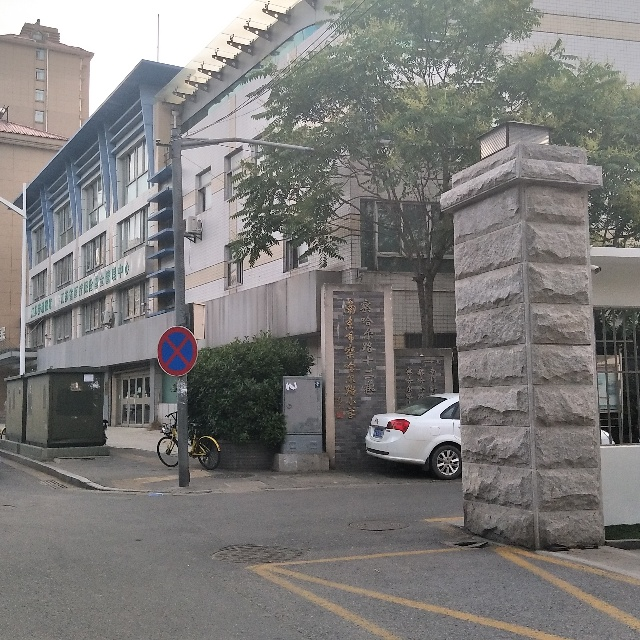stop: (160, 330, 195, 375)
